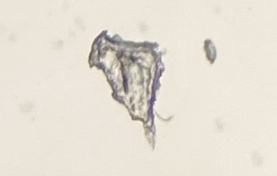microplastic: (88, 30, 174, 149), (203, 38, 217, 63)
